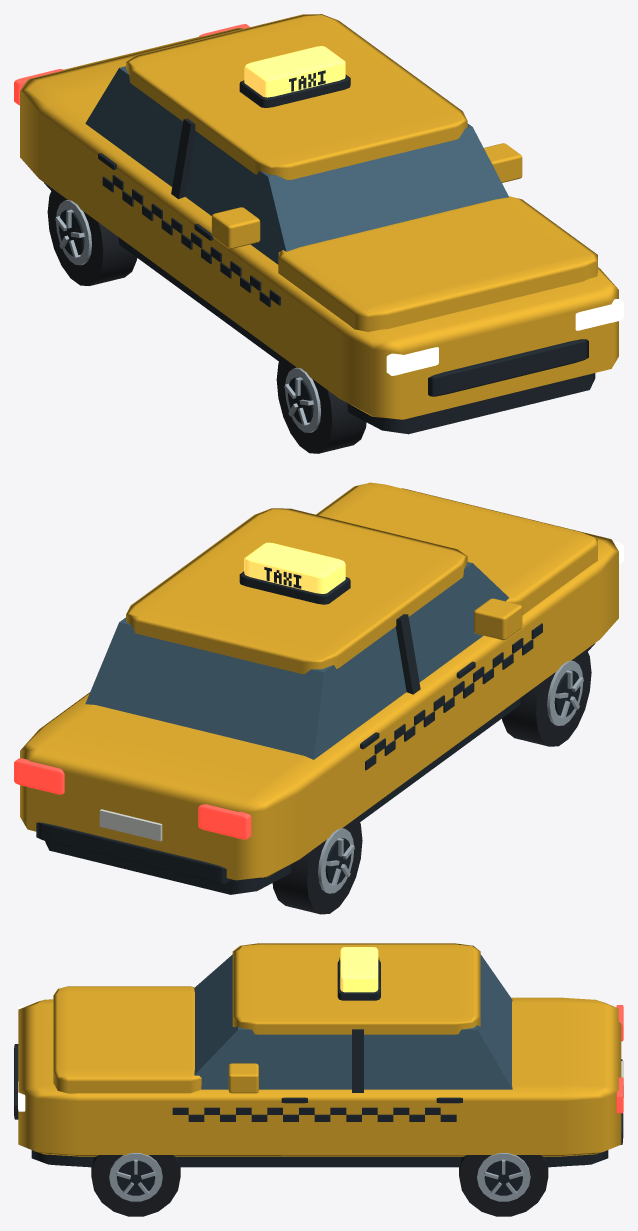
The model's file is taxi.glb.
3 views of the same model, one above another, from view 1: azimuth 30°, elevation 25°; view 2: azimuth 150°, elevation 25°; view 3: azimuth 270°, elevation 25° (orthographic). The views are drawn at different scales.
Parts seen in each view (by area): view 1: taxi, Wheel_1_L, Wheel_0_L; view 2: taxi, Wheel_0_L, Wheel_1_L; view 3: taxi, Wheel_0_R, Wheel_1_R.
Boxes of the visible parts, left/top/right/bottom form: taxi: left=14, top=14, right=623, bottom=434; Wheel_1_L: left=276, top=356, right=366, bottom=453; Wheel_0_L: left=47, top=189, right=137, bottom=285; taxi: left=14, top=482, right=623, bottom=894; Wheel_0_L: left=272, top=817, right=362, bottom=914; Wheel_1_L: left=502, top=649, right=591, bottom=746; taxi: left=14, top=943, right=623, bottom=1167; Wheel_0_R: left=459, top=1153, right=548, bottom=1216; Wheel_1_R: left=91, top=1153, right=180, bottom=1216.
Bounding box in the file's own units: 2.08 × 1.71 × 4.64.
